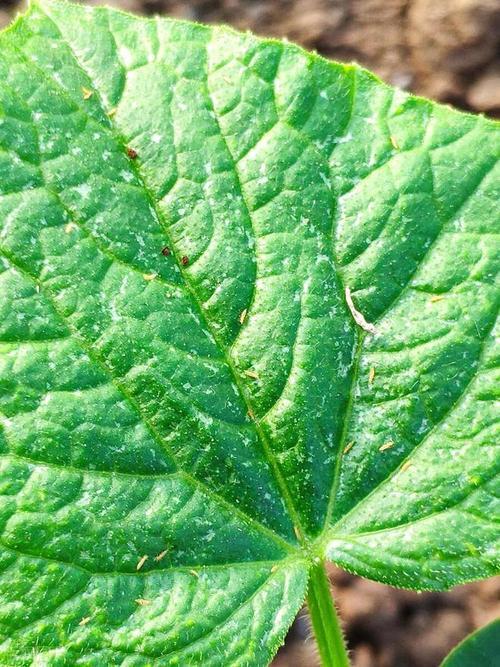Phlaeothripidae: (154, 544, 170, 562), (79, 614, 94, 627)
